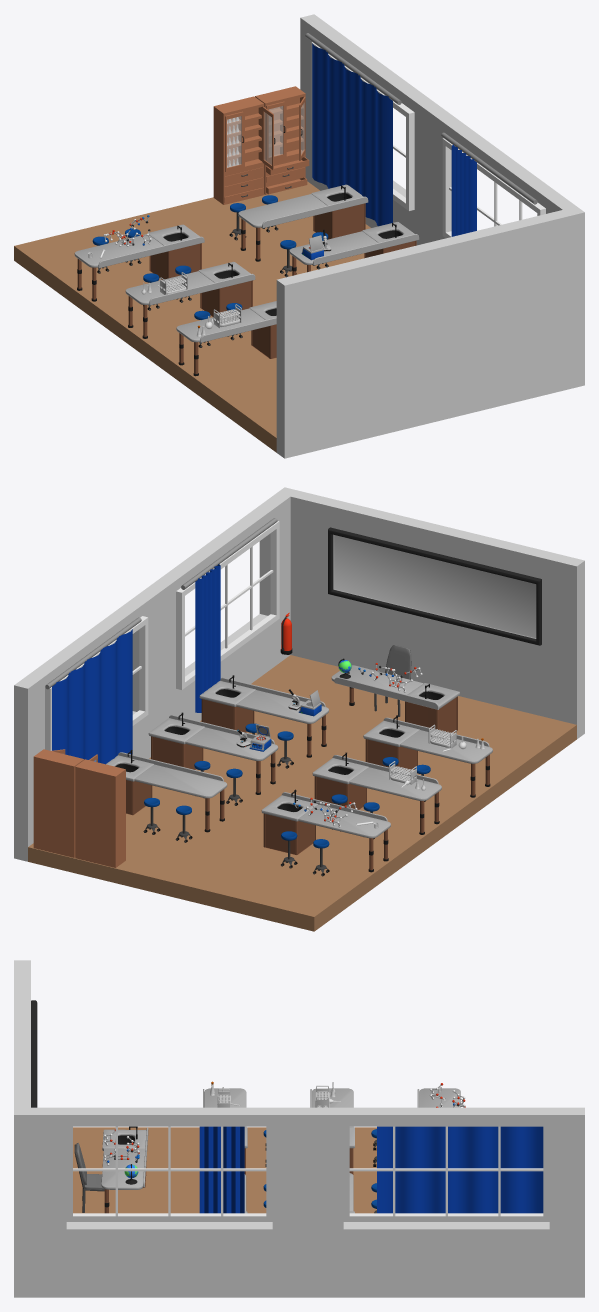
The picture shows the model from 3 angles, top to bottom: view 1: azimuth 30°, elevation 25°; view 2: azimuth 150°, elevation 25°; view 3: azimuth 270°, elevation 25°; orthographic projection. The views are drawn at different scales.
Visible parts, largest first — view 1: CHEMISTRYlabdemoscene_3, Cube055, Cylinder127_1, CHEMISTRYlabdemoscene_72, CHEMISTRYlabdemoscene_66, Plane007, Cube093_1, Plane007_1, Cube087_1, Cylinder126, Cylinder127, Cylinder128; view 2: CHEMISTRYlabdemoscene_3, Cube055, CHEMISTRYlabdemoscene, Cylinder127_1, CHEMISTRYlabdemoscene_72, CHEMISTRYlabdemoscene_66, Cube097, Plane007, Cylinder126, Cube007, Plane007_1, Cylinder127 (+1 smaller); view 3: CHEMISTRYlabdemoscene_3, Cylinder127_1, Plane007, Cube055, Cube097, CHEMISTRYlabdemoscene, Cube007.
Part boxes in pixels (x1,y1,x2,y2): CHEMISTRYlabdemoscene_3: [14, 14, 584, 458]; Cube055: [74, 184, 419, 376]; Cylinder127_1: [312, 43, 392, 226]; CHEMISTRYlabdemoscene_72: [213, 96, 264, 204]; CHEMISTRYlabdemoscene_66: [255, 86, 305, 194]; Plane007: [451, 144, 476, 236]; Cube093_1: [227, 116, 241, 167]; Plane007_1: [441, 132, 537, 204]; Cube087_1: [269, 106, 283, 157]; Cylinder126: [92, 195, 278, 273]; Cylinder127: [305, 33, 401, 104]; Cylinder128: [143, 232, 328, 310]; CHEMISTRYlabdemoscene_3: [14, 487, 584, 931]; Cube055: [106, 677, 492, 872]; CHEMISTRYlabdemoscene: [328, 527, 541, 645]; Cylinder127_1: [52, 629, 132, 764]; CHEMISTRYlabdemoscene_72: [75, 759, 125, 867]; CHEMISTRYlabdemoscene_66: [33, 749, 84, 857]; Cube097: [331, 665, 459, 732]; Plane007: [195, 564, 220, 712]; Cylinder126: [143, 797, 329, 876]; Cube007: [385, 645, 411, 679]; Plane007_1: [181, 518, 277, 589]; Cylinder127: [45, 617, 141, 689]; CHEMISTRYlabdemoscene_3: [14, 960, 584, 1297]; Cylinder127_1: [377, 1126, 543, 1213]; Plane007: [199, 1126, 244, 1213]; Cube055: [203, 1088, 460, 1213]; Cube097: [101, 1127, 148, 1213]; CHEMISTRYlabdemoscene: [31, 1000, 37, 1107]; Cube007: [76, 1143, 104, 1189].
Bounding box in the file's own units: 6.44 × 3.54 × 10.03.
Materials: 5 (4 with a texture image).
